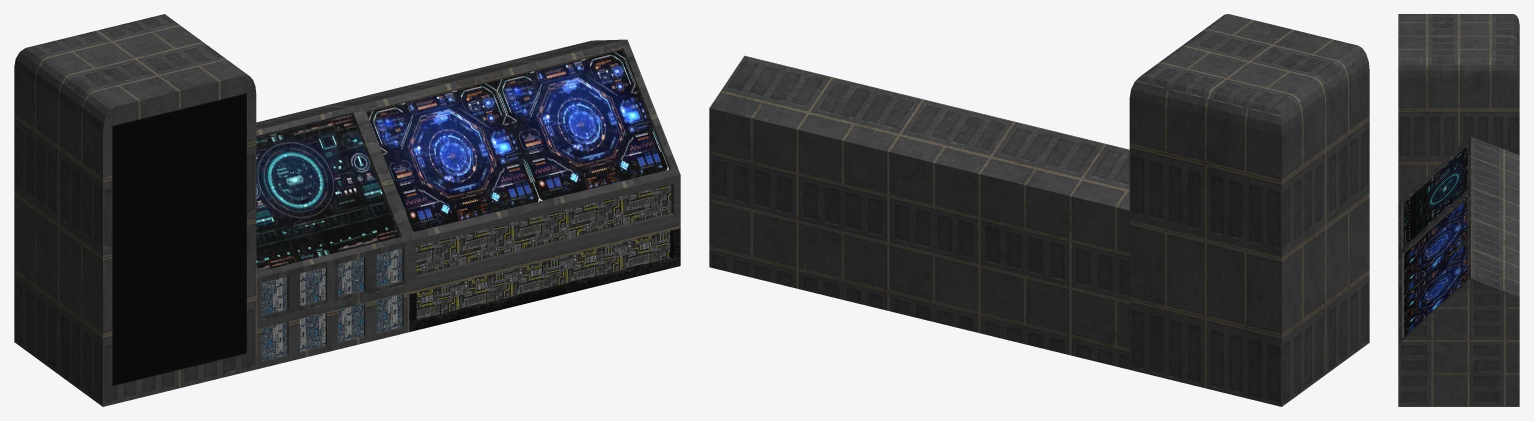
The model's file is supercomputer.glb.
The picture shows the model from 3 angles, left to right: view 1: azimuth 30°, elevation 25°; view 2: azimuth 150°, elevation 25°; view 3: azimuth 270°, elevation 25°; orthographic projection. The views are drawn at different scales.
Parts seen in each view (by area): view 1: Supercomputer by JJ.001_Computers by JJ_gameasset_Mat_1_0, Supercomputer by JJ.001_Supercomputer by JJ_gameasset_Mat_1_; view 2: Supercomputer by JJ.001_Computers by JJ_gameasset_Mat_1_0, Supercomputer by JJ.001_Supercomputer by JJ_gameasset_Mat_1_; view 3: Supercomputer by JJ.001_Computers by JJ_gameasset_Mat_1_0, Supercomputer by JJ.001_Supercomputer by JJ_gameasset_Mat_1_.
Part boxes in pixels (left/top/right/bottom): Supercomputer by JJ.001_Computers by JJ_gameasset_Mat_1_0: left=256, top=39, right=680, bottom=369; Supercomputer by JJ.001_Supercomputer by JJ_gameasset_Mat_1_: left=14, top=14, right=256, bottom=406; Supercomputer by JJ.001_Computers by JJ_gameasset_Mat_1_0: left=709, top=55, right=1129, bottom=369; Supercomputer by JJ.001_Supercomputer by JJ_gameasset_Mat_1_: left=1129, top=14, right=1369, bottom=406; Supercomputer by JJ.001_Computers by JJ_gameasset_Mat_1_0: left=1398, top=137, right=1519, bottom=406; Supercomputer by JJ.001_Supercomputer by JJ_gameasset_Mat_1_: left=1398, top=14, right=1519, bottom=202.
Bounding box in the file's own units: 7.53 × 3.7 × 2.
2 materials, 2 textured.
